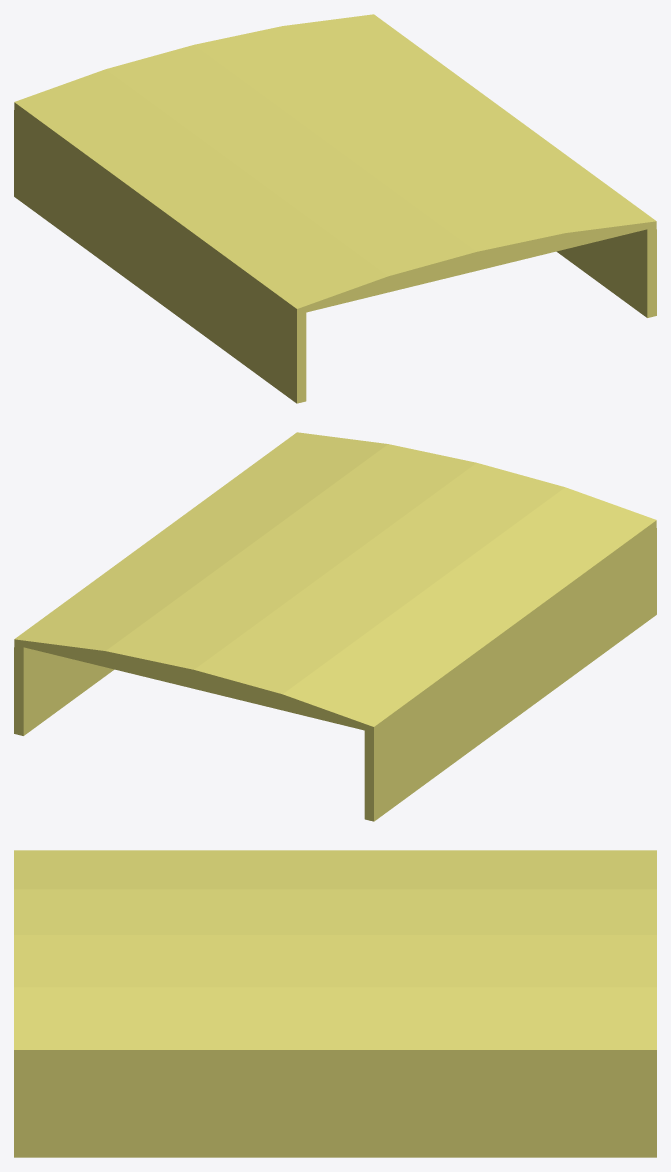
Rendered from Itr_Bed_Single_Blanket_09.FBX.
3 views of the same model, one above another, from view 1: azimuth 30°, elevation 25°; view 2: azimuth 150°, elevation 25°; view 3: azimuth 270°, elevation 25° (orthographic). The views are drawn at different scales.
Parts seen in each view (by area): view 1: Itr_Bed_Single_Blanket_09; view 2: Itr_Bed_Single_Blanket_09; view 3: Itr_Bed_Single_Blanket_09.
Boxes of the visible parts, x1,y1,x2,y2 form: Itr_Bed_Single_Blanket_09: (14,14,656,403); Itr_Bed_Single_Blanket_09: (14,432,656,821); Itr_Bed_Single_Blanket_09: (14,850,656,1157).
Size of the model in its own units: 47.68 by 13.65 by 64.86.
